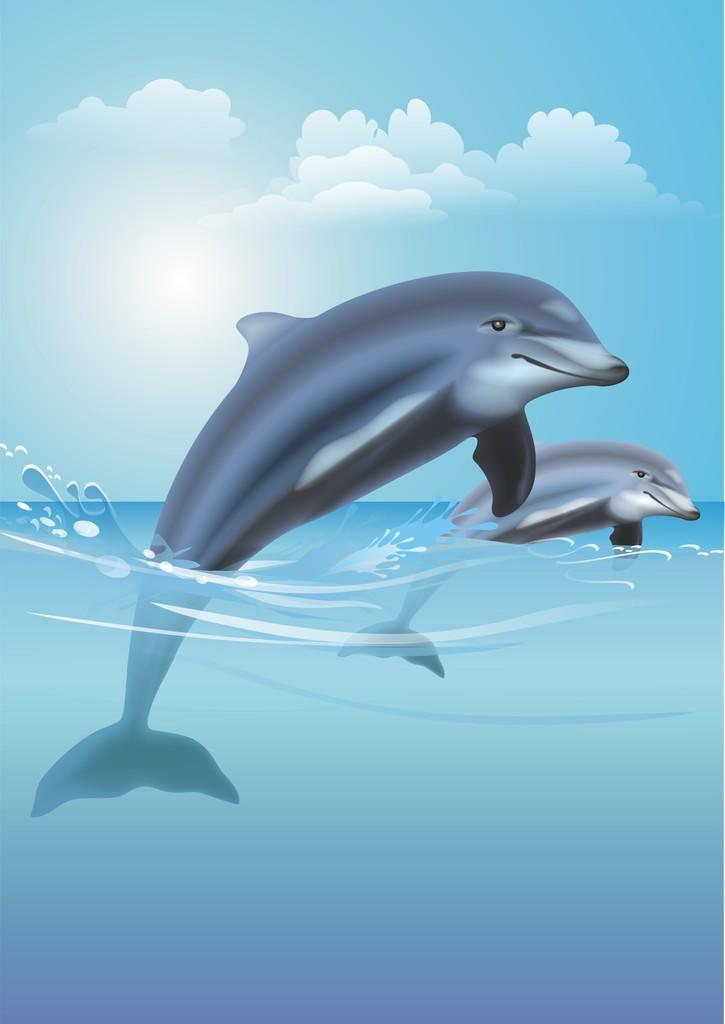fish: (29, 270, 626, 822), (343, 443, 704, 676)
